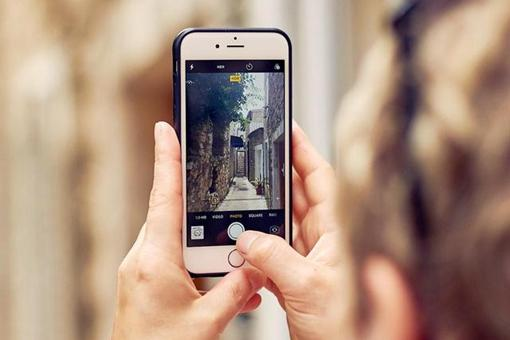taking photos: (107, 14, 356, 339)
